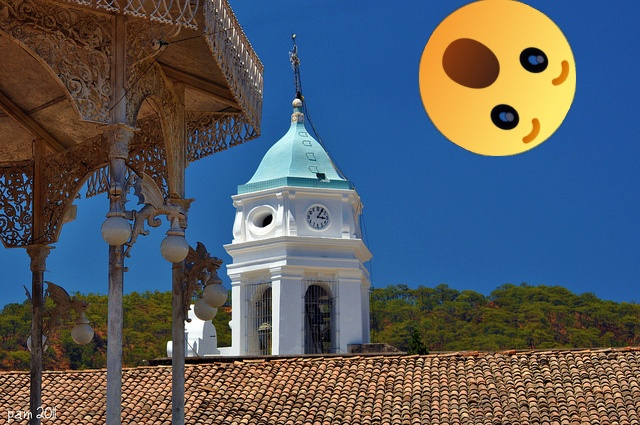wow: (419, 0, 576, 156)
